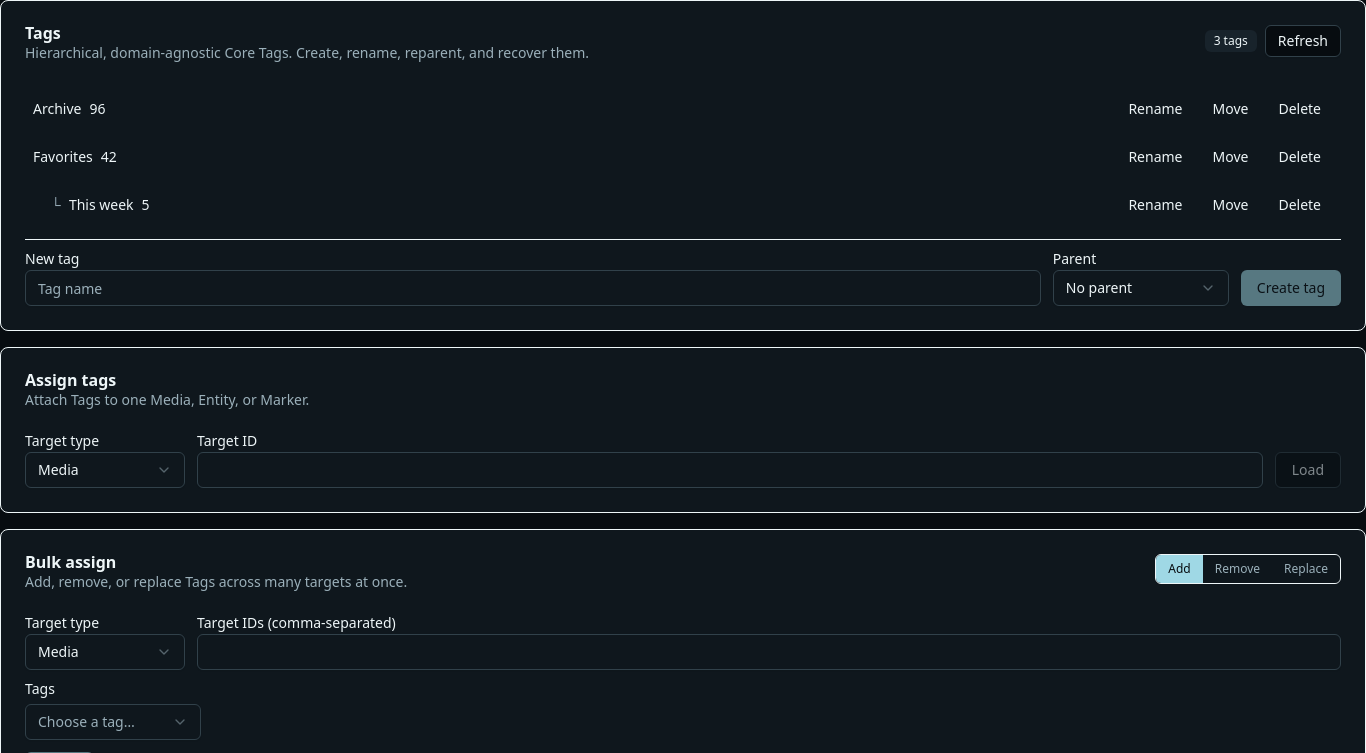
Test: TagsPage › bulk-assigns selected tags across targets in the chosen mode
Type "media-7f3a, media-22b1, media-9c08" into the field labelled "Target IDs (comma-separated)".
click(769, 652); type("media-7f3a, media-22b1, media-9c08")  # box top-left (197, 634), bottom-right (1341, 670)
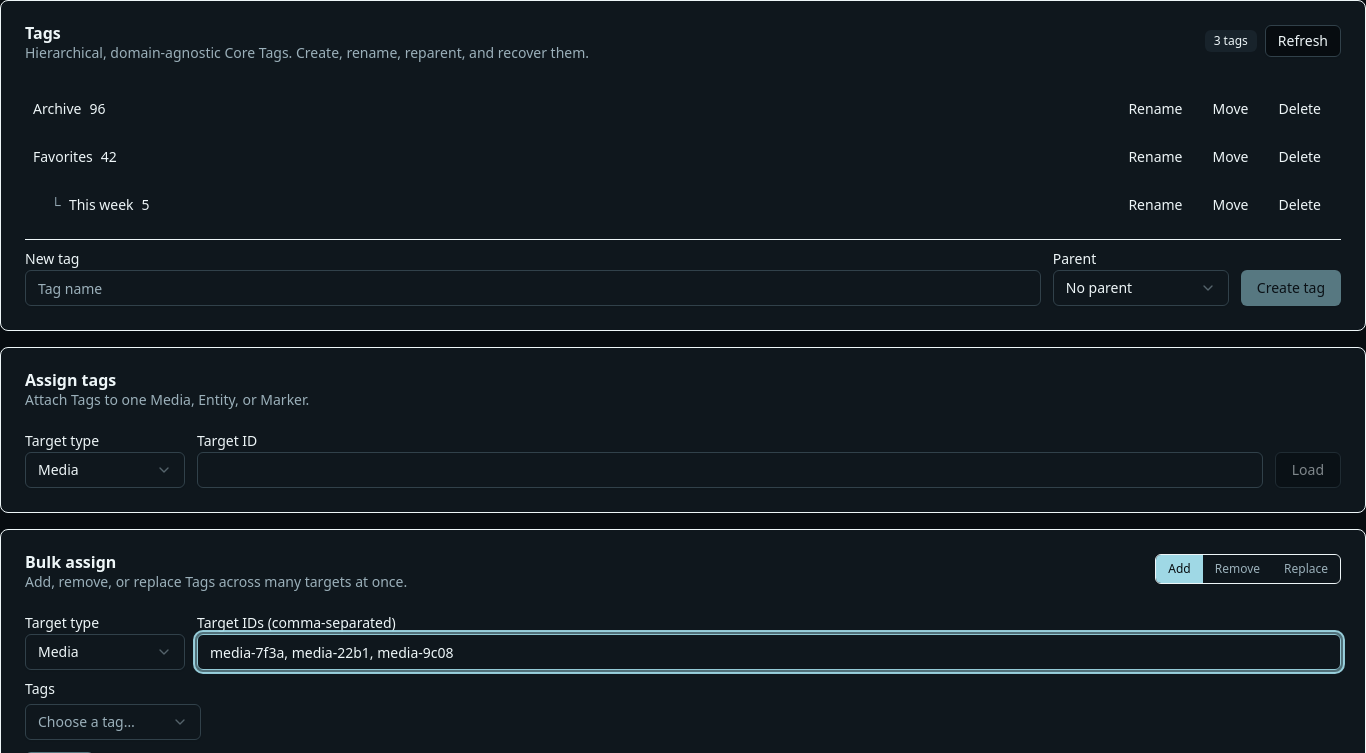
Click the button "Replace".
click(1306, 569)  # box top-left (1272, 555), bottom-right (1340, 583)
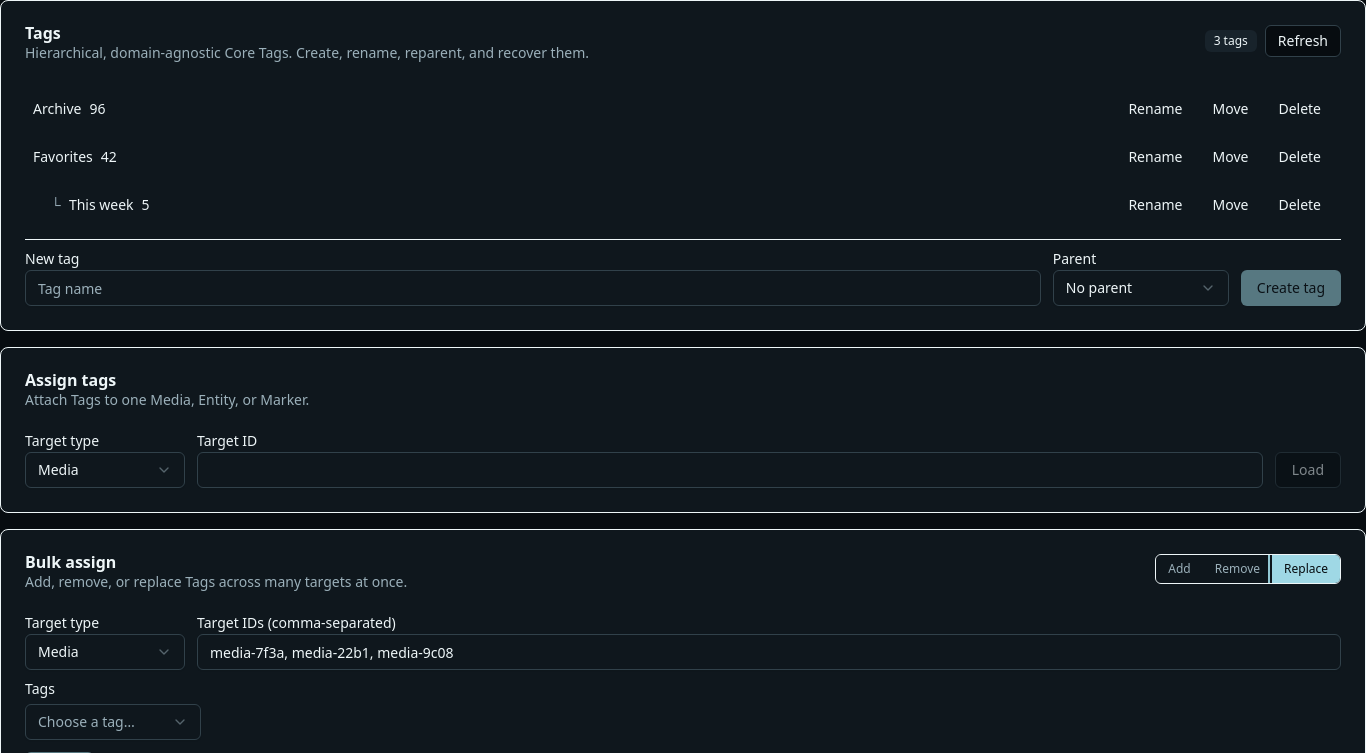
Click the dropdown named "Tags".
click(113, 722)  # box top-left (25, 704), bottom-right (201, 740)
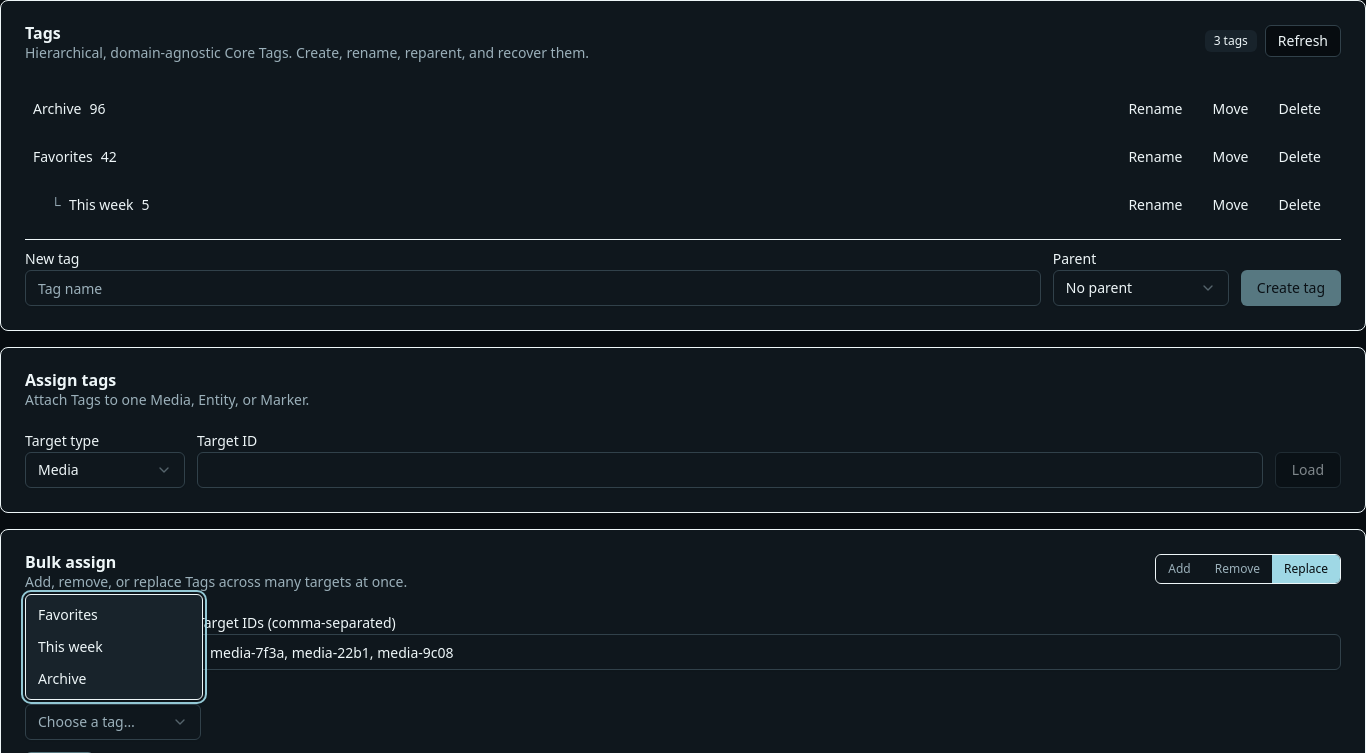
Click the option "Archive".
click(62, 678)  # box top-left (38, 669), bottom-right (86, 688)
(page scrolled)
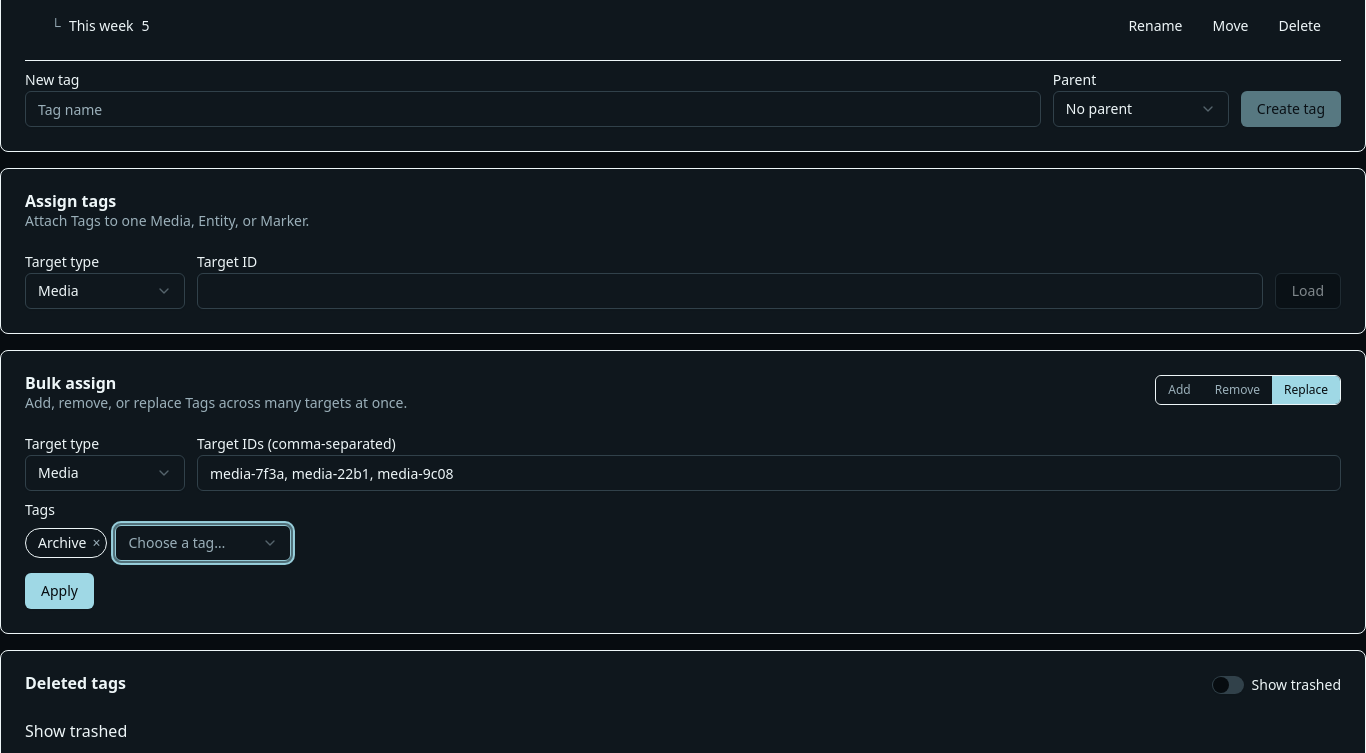
Click the button "Apply".
click(59, 591)  # box top-left (25, 573), bottom-right (94, 609)
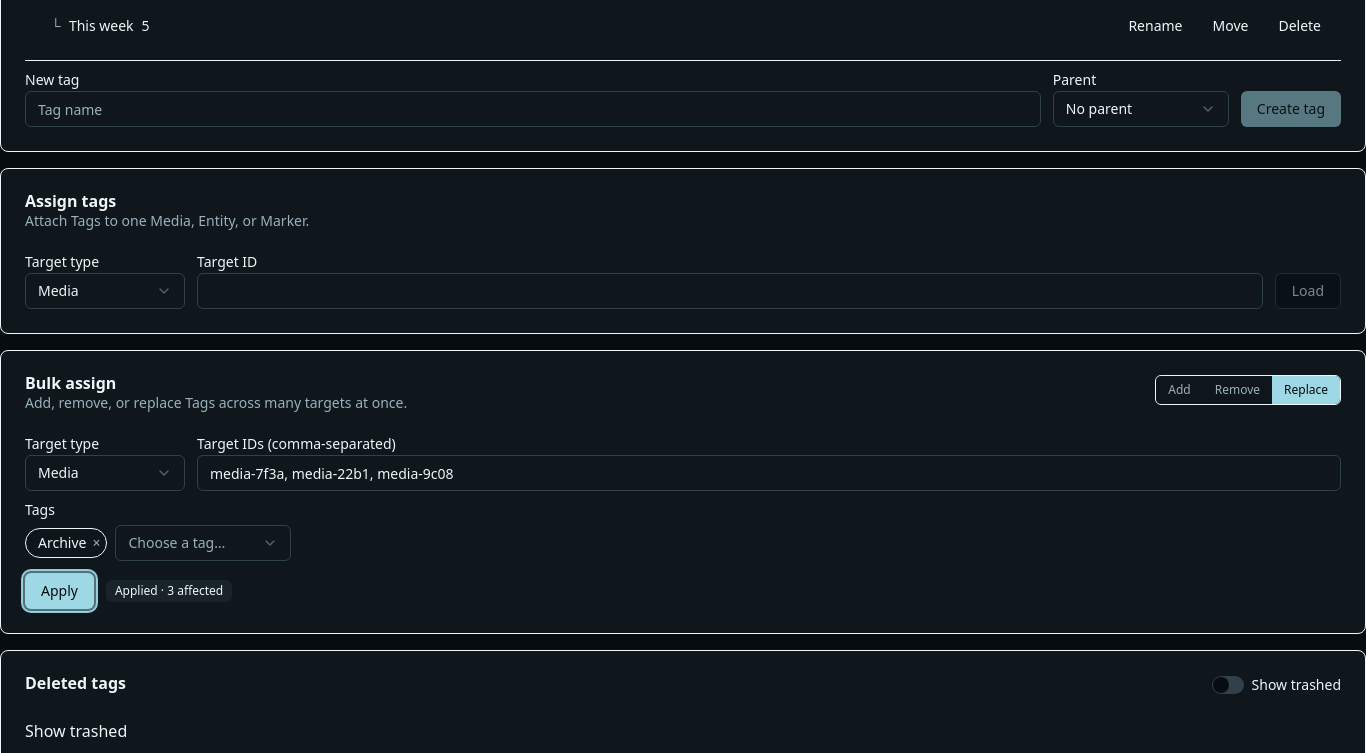
Now the text "Applied · 3 affected" is shown, box top-left (106, 580), bottom-right (232, 602)
